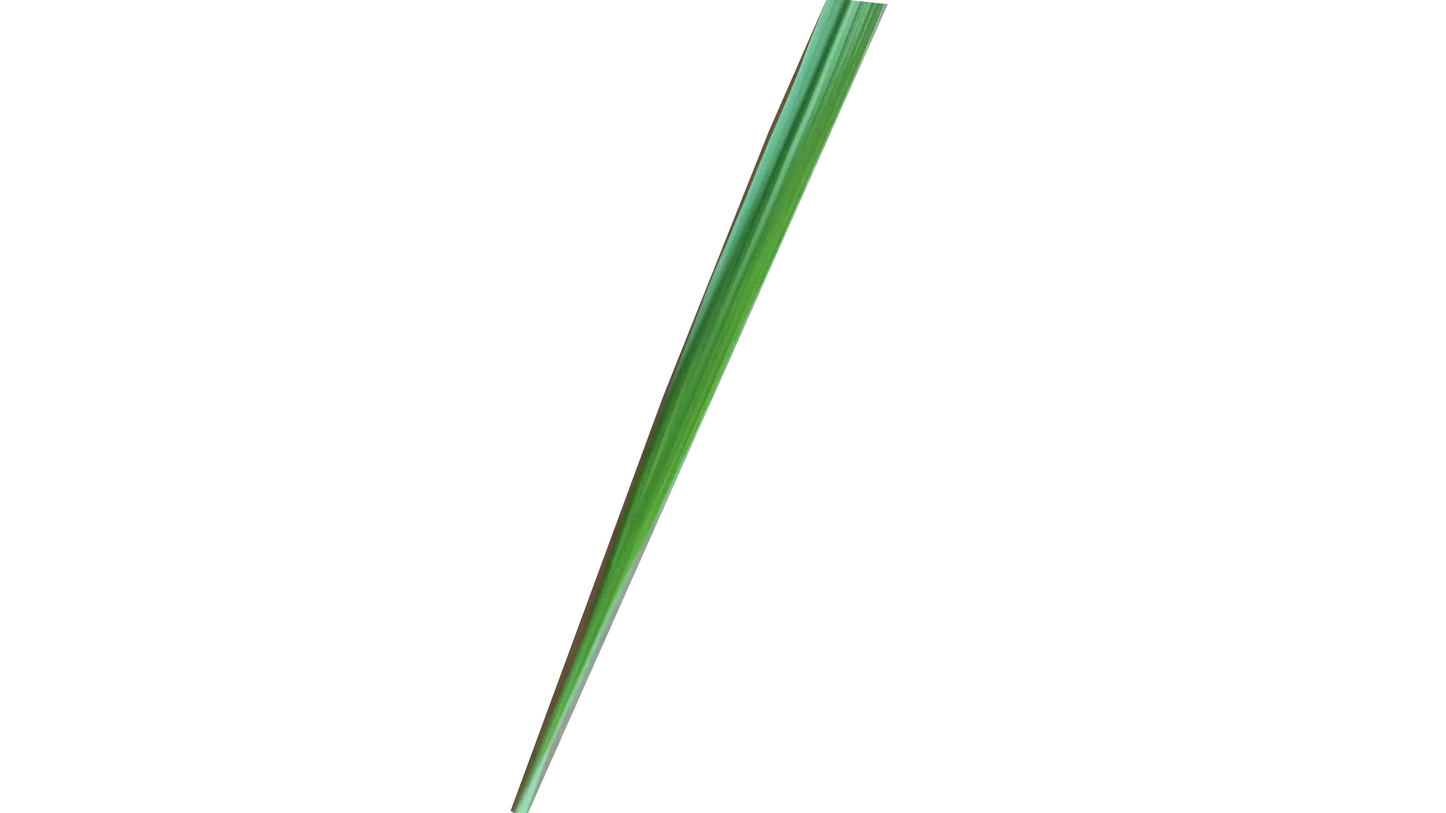Healthy: (507, 0, 886, 813)
